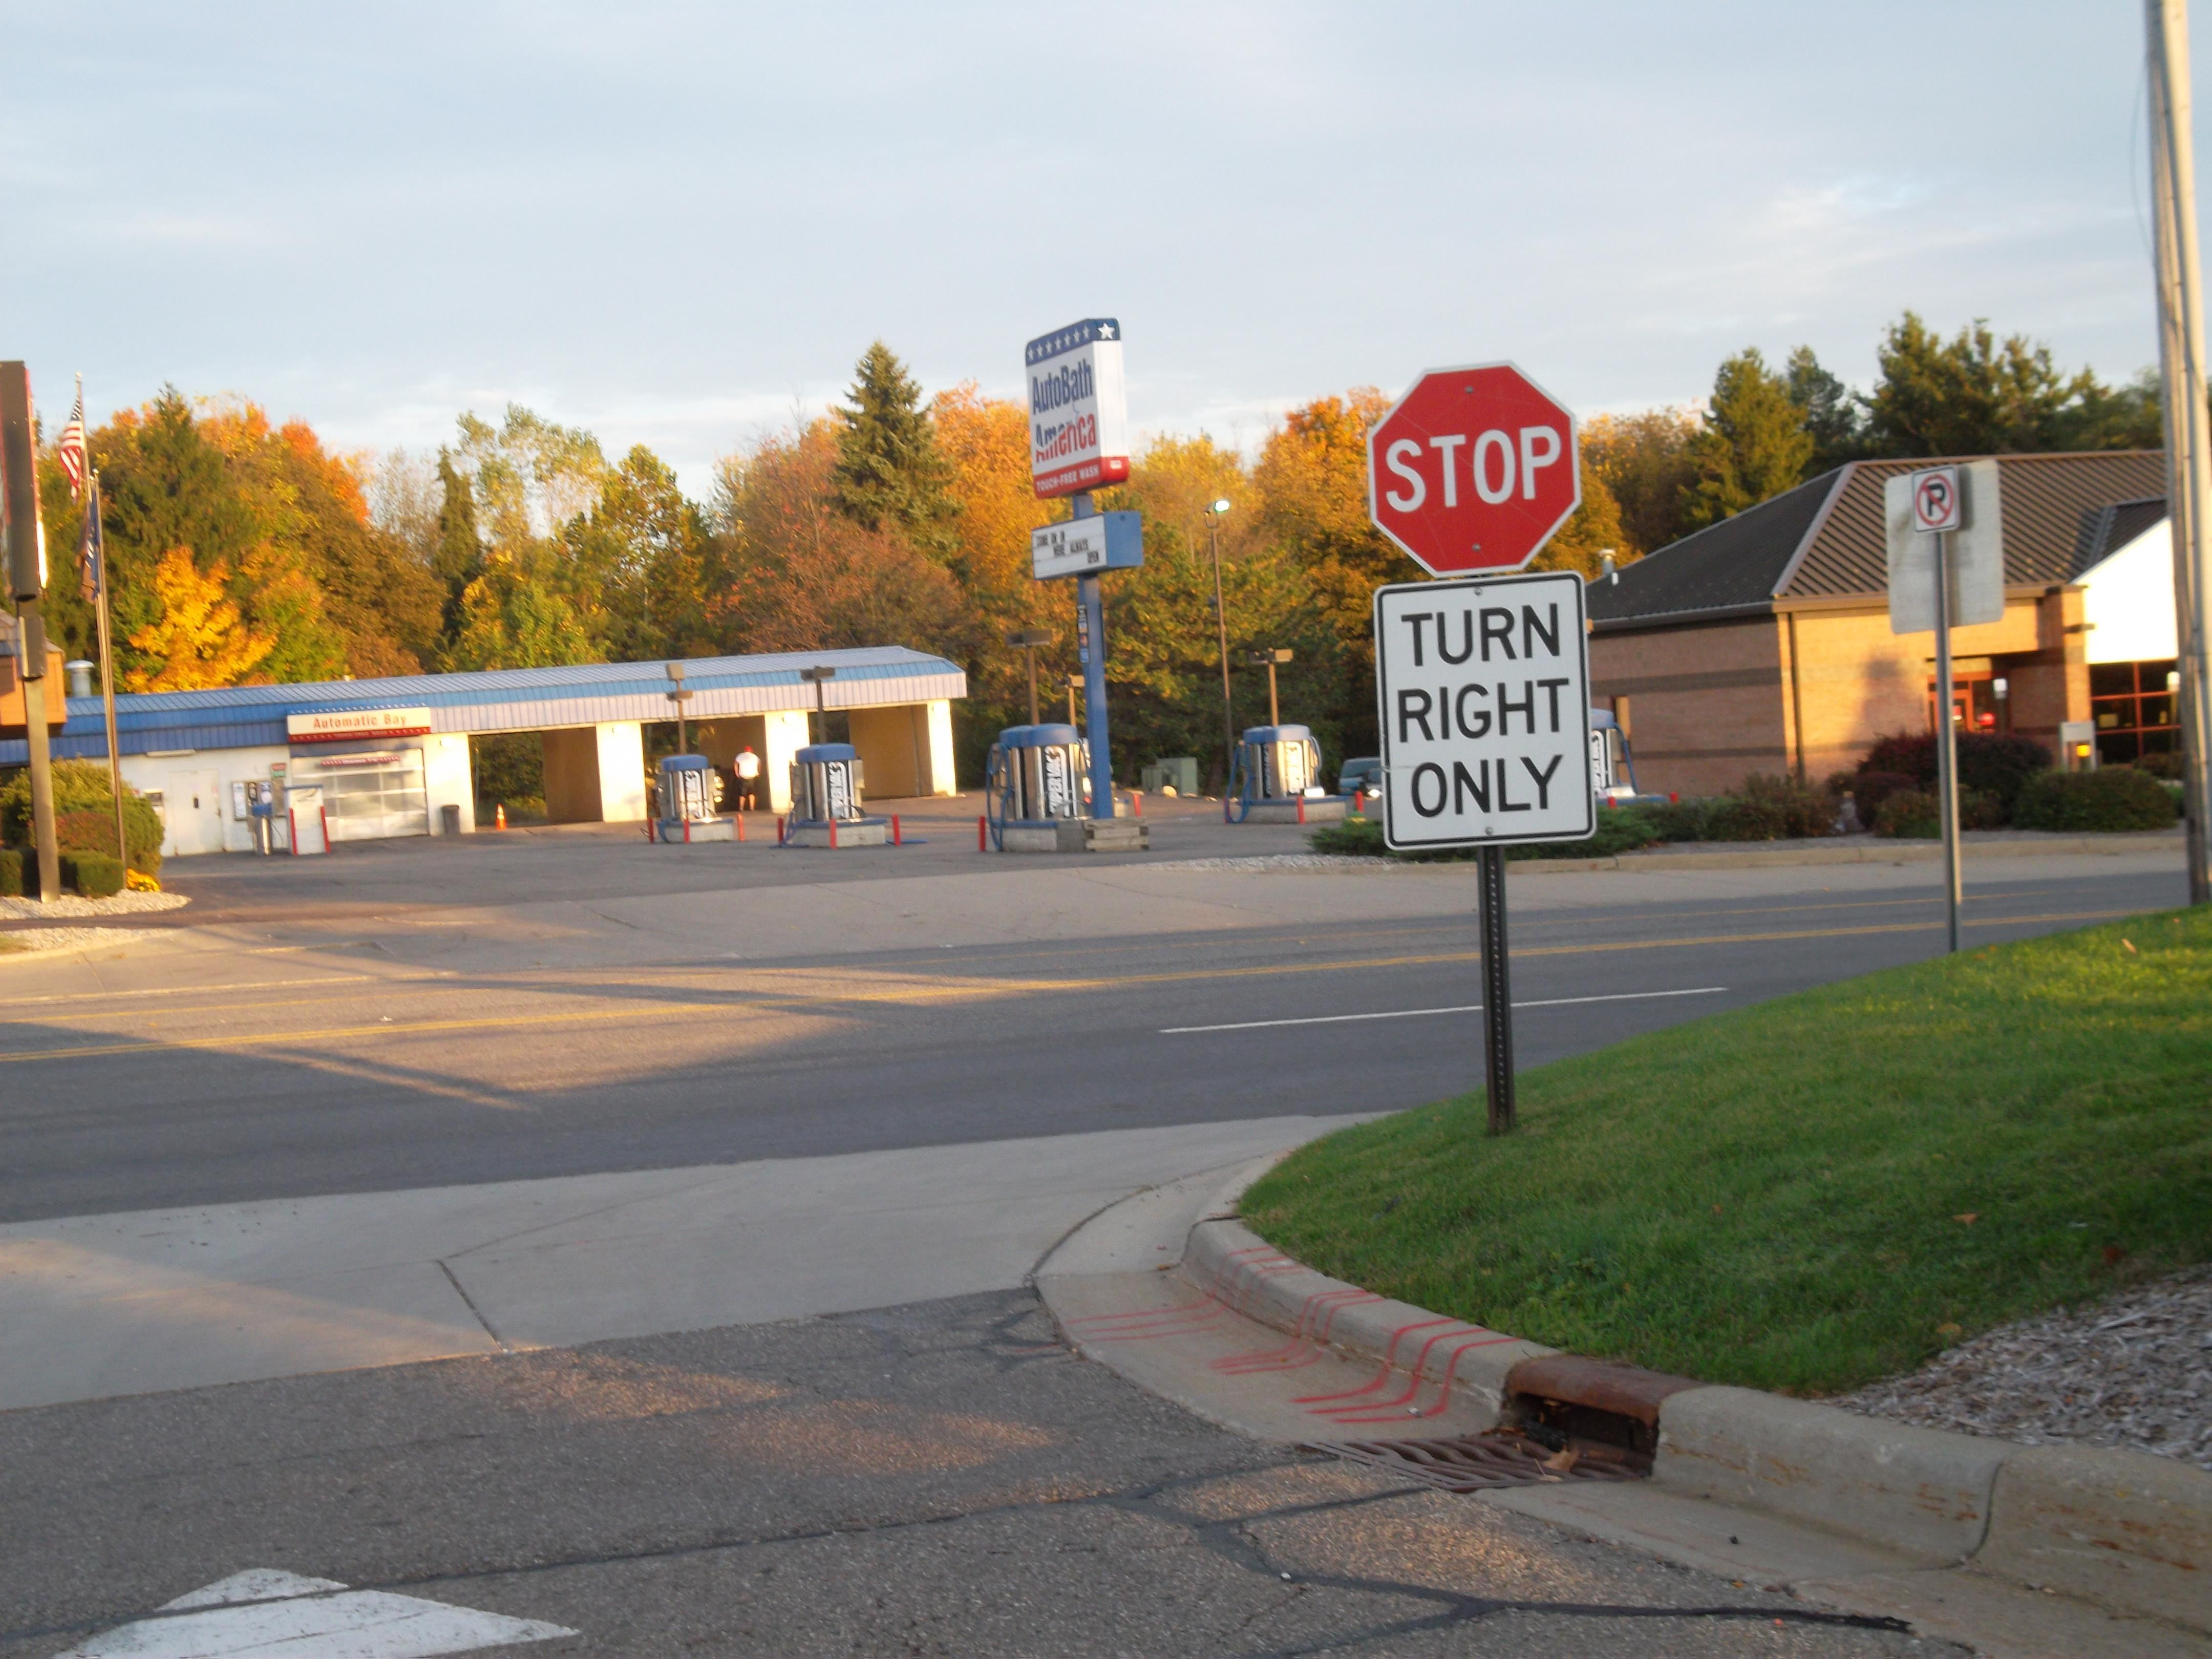regulatory: (1369, 568, 1602, 857)
stop: (1353, 335, 1585, 586)
